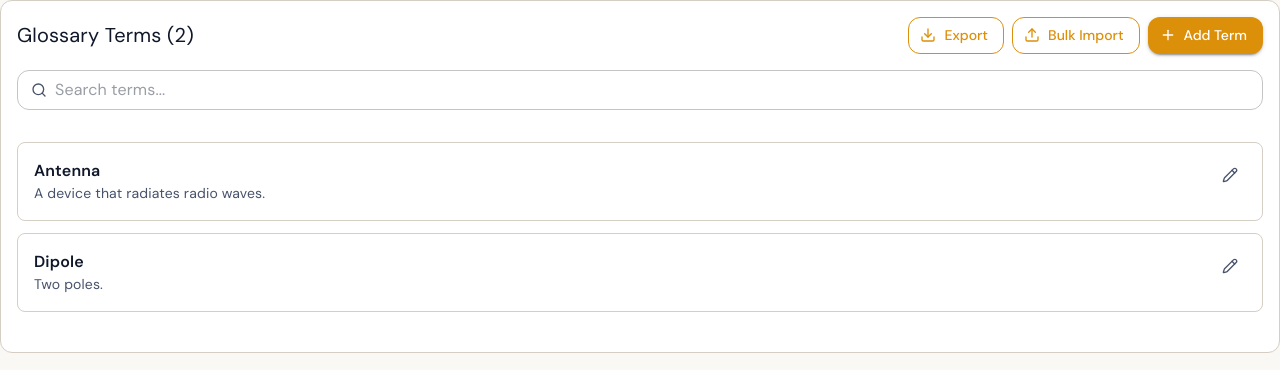
AdminGlossary › list › filters by term and by definition
The width and height of the screenshot is (1280, 370).
Expected: the heading "Antenna" is shown, [34, 160, 100, 180]
In the field with placeholder "Search terms...": (659, 90) [55, 70, 1263, 110], type "two poles"
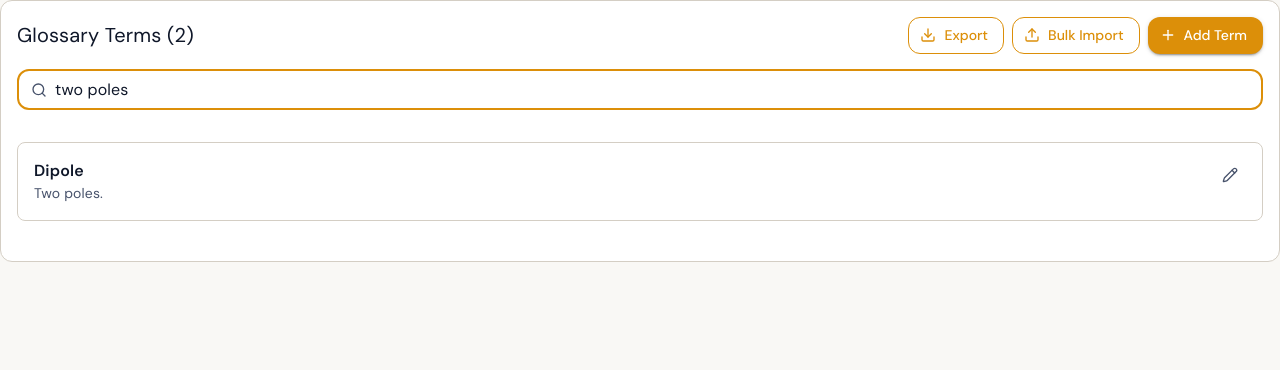
Expected: the heading "Dipole" is shown, [34, 160, 84, 180]
Result: the heading "Antenna" is gone
